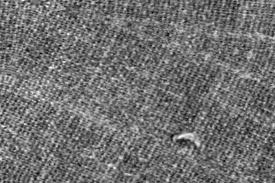snag: (170, 131, 202, 151)
